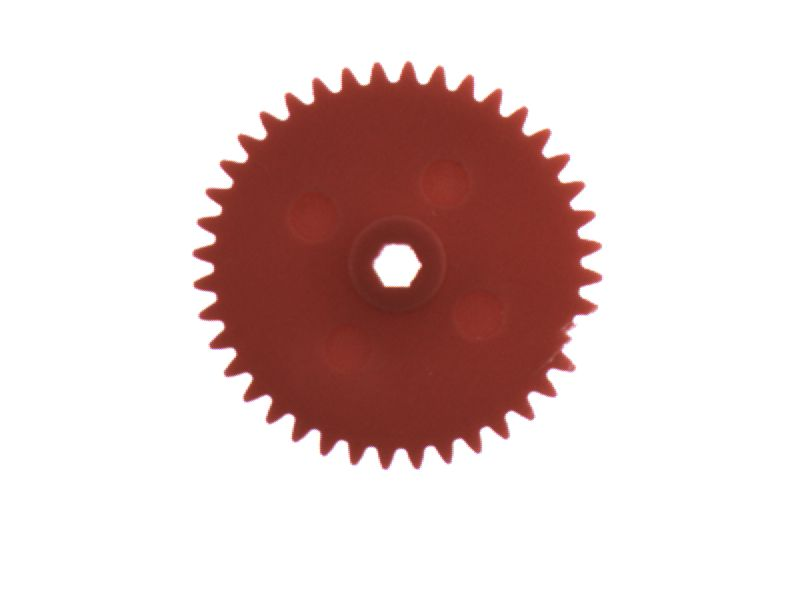defect_lack: (549, 298, 615, 369)
